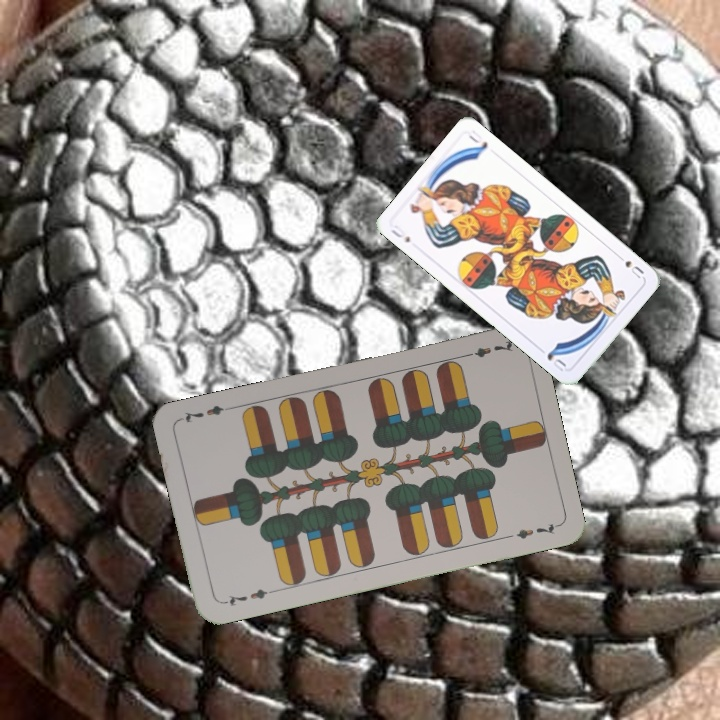E7: (218, 584, 277, 609), (459, 336, 518, 361)
SU: (612, 249, 647, 281), (387, 221, 413, 245)
